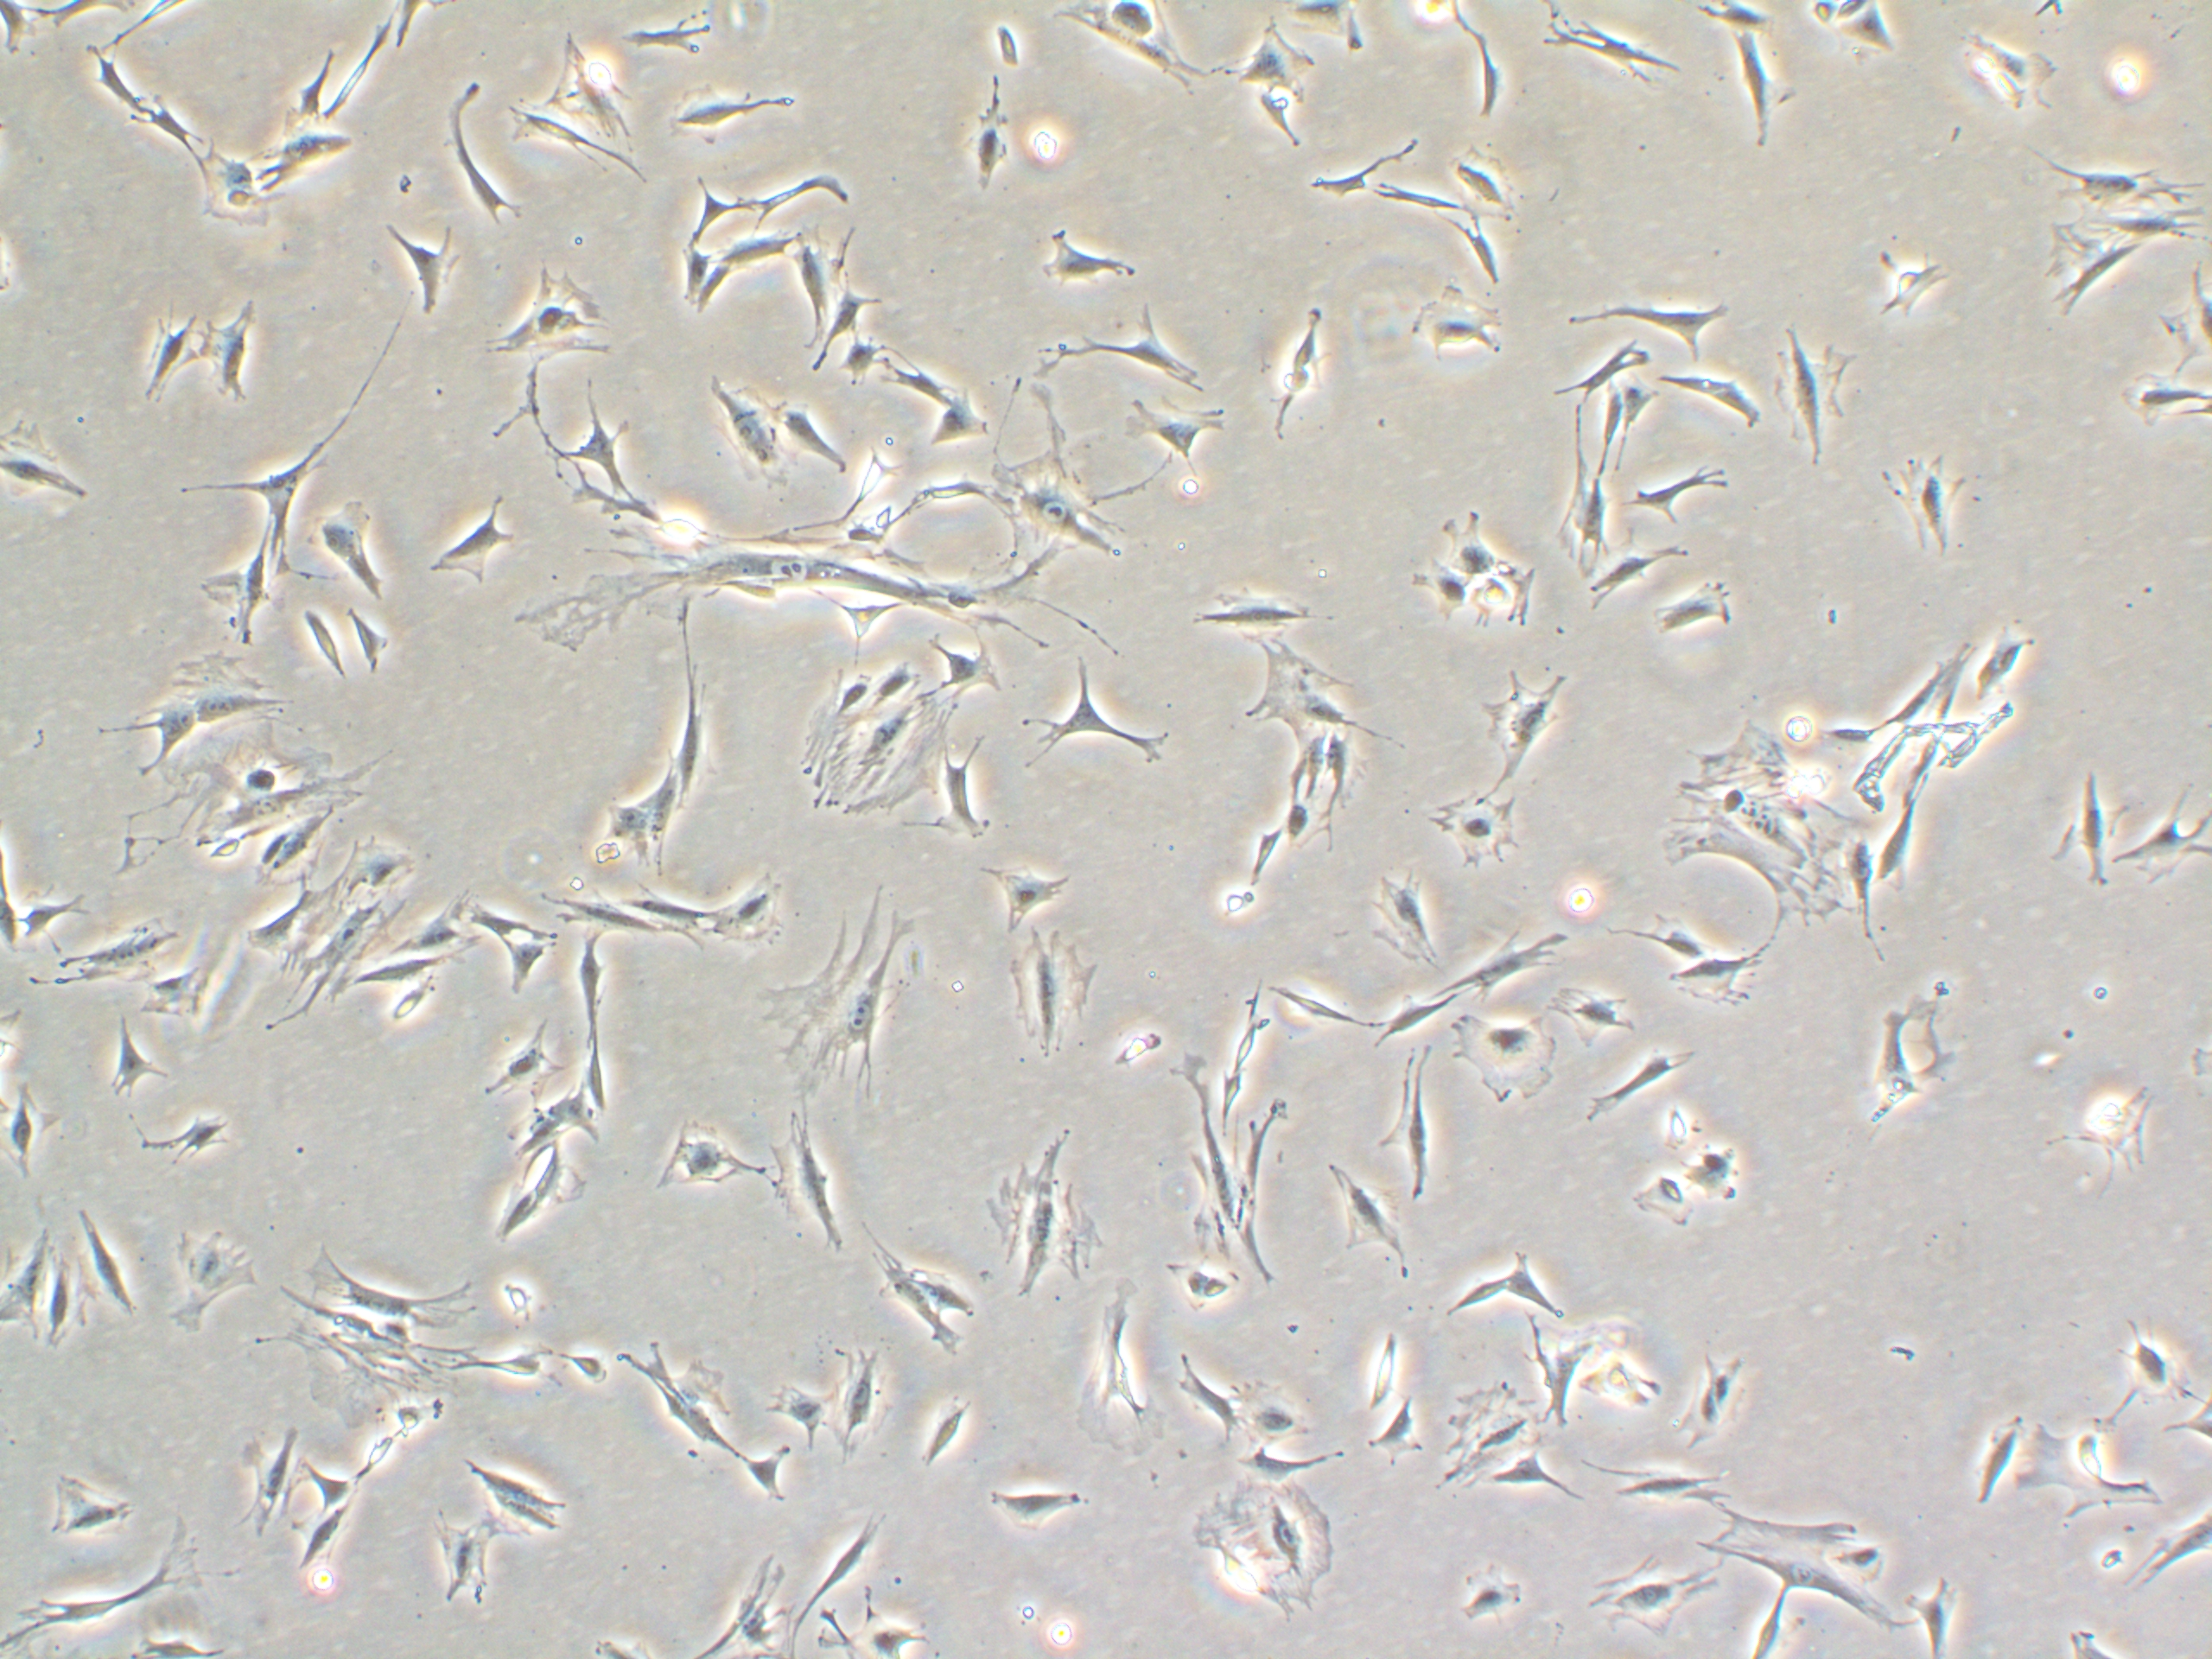small: (1860, 239, 1965, 331), (446, 1337, 550, 1410), (354, 974, 442, 1053), (1397, 545, 1475, 633), (1151, 1253, 1249, 1319), (1634, 1168, 1705, 1243), (561, 1342, 632, 1405), (1458, 577, 1524, 640), (1646, 1091, 1705, 1157), (979, 3, 1031, 73), (352, 1431, 406, 1492), (1109, 1019, 1170, 1070), (388, 1398, 439, 1450)
spread: (505, 504, 923, 641), (1655, 711, 1879, 955), (261, 1232, 495, 1441), (758, 880, 951, 1110), (176, 734, 395, 884), (1165, 1474, 1359, 1643), (982, 403, 1146, 587), (2026, 138, 2188, 322), (965, 1114, 1106, 1324), (796, 655, 961, 833), (1705, 1500, 1918, 1636), (1223, 634, 1390, 791), (484, 256, 672, 380), (984, 924, 1116, 1093), (110, 640, 277, 772), (148, 1215, 270, 1351), (1479, 657, 1595, 793), (1437, 1012, 1571, 1110), (827, 1333, 906, 1486)
